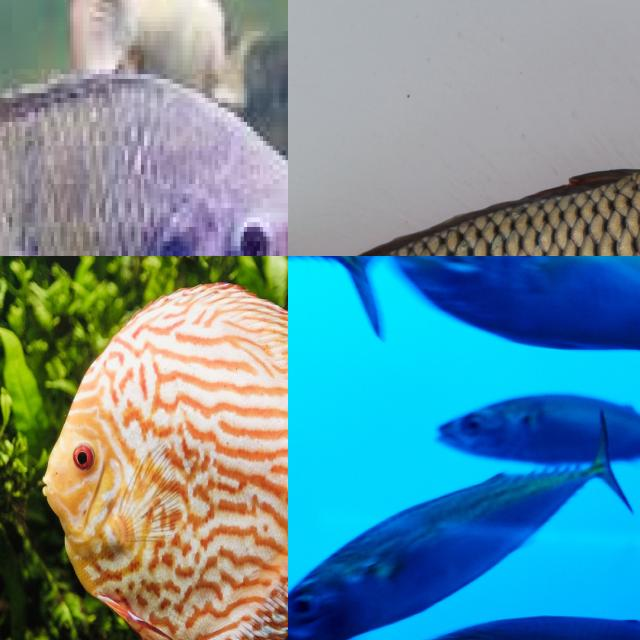fish: (41, 331, 288, 640), (0, 0, 288, 256), (288, 139, 640, 256), (392, 256, 640, 375)
